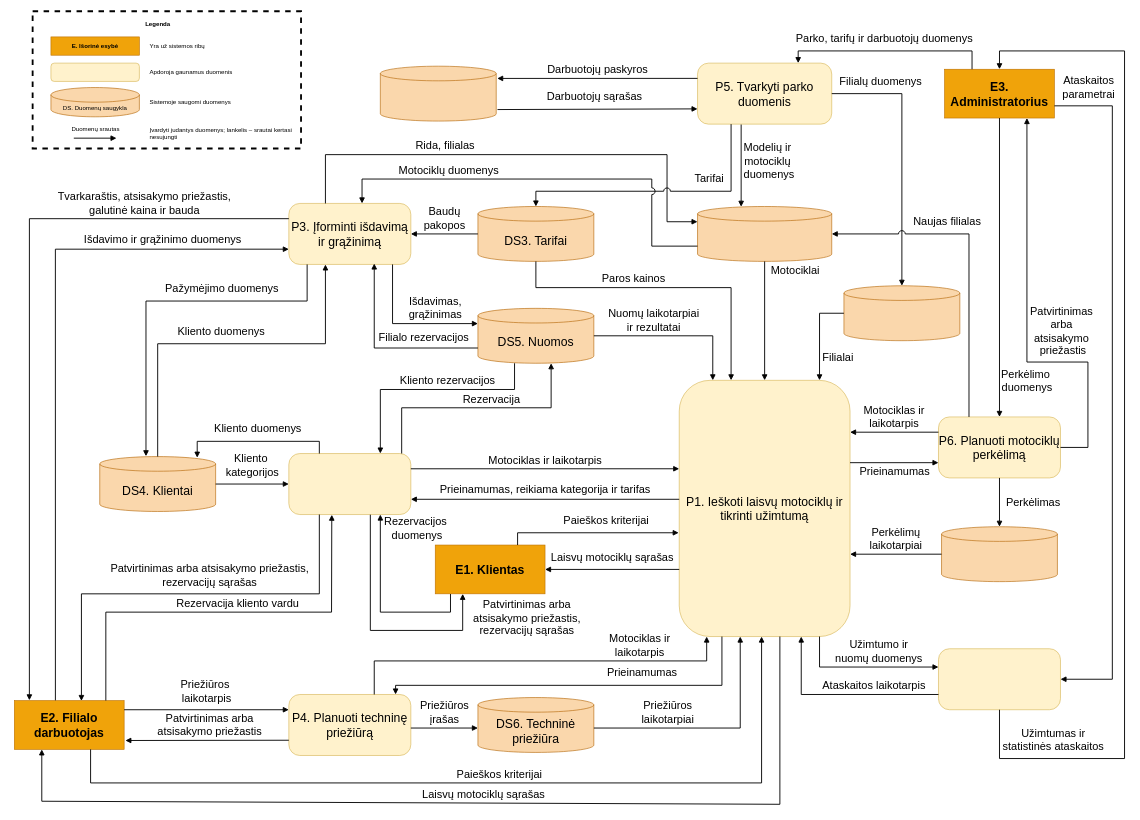
Some shapes in this 1140 by 820 pixel diagram are drawn without their labels. Here are the shapes that lost their labels. From the top down, the box of each, then its label:
(50, 63, 139, 81): P. Procesas
(380, 66, 496, 121): DS8. Darbuotojai ir paskyros
(697, 206, 832, 261): DS2. Motociklai
(843, 285, 960, 341): DS1. Filialai
(288, 453, 411, 515): P2. Rezervuoti ir valdyti rezervacijas
(941, 526, 1057, 582): DS7. Perkėlimai
(938, 648, 1060, 710): P7. Formuoti užimtumo ir statistines ataskaitas
